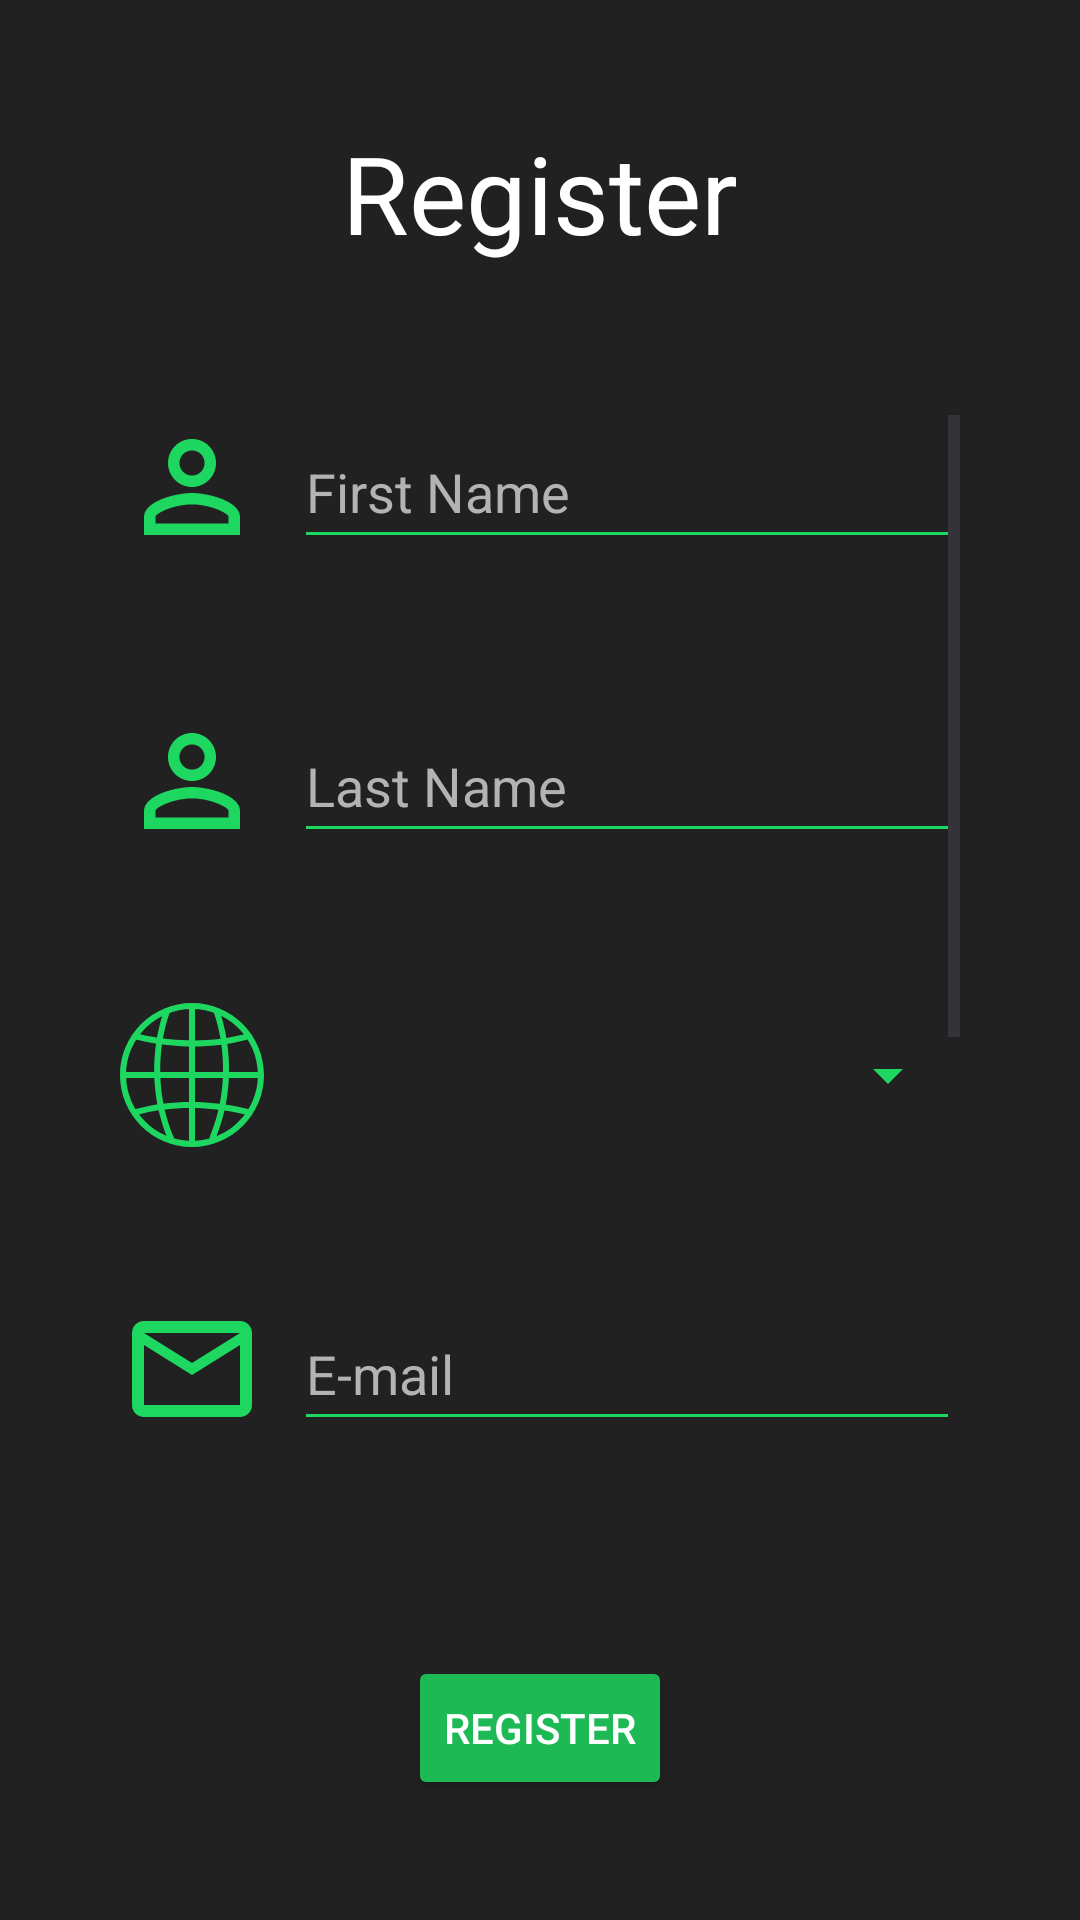

Locate icon controls on the screen. Image size 1080w x 1920h, boxes as (x1, y1, x2, y2).
globe grid: (120, 1003, 264, 1147)
person: (144, 439, 240, 535), (144, 733, 240, 829)
